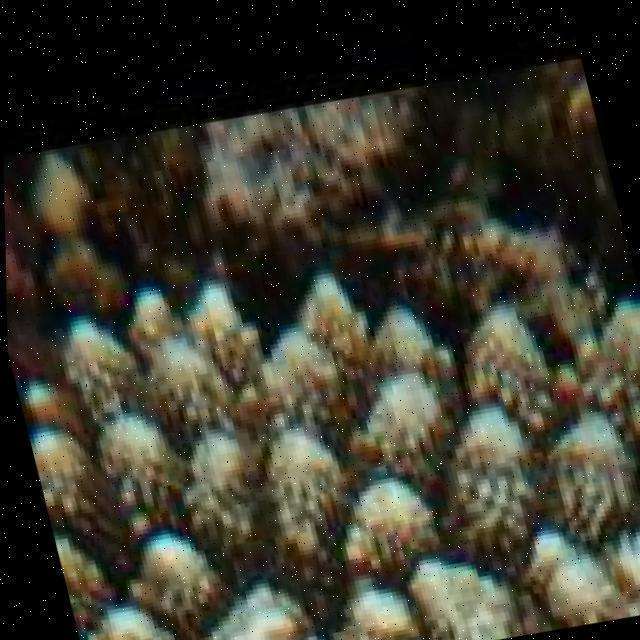Healthy Coral: (3, 187, 640, 640)
